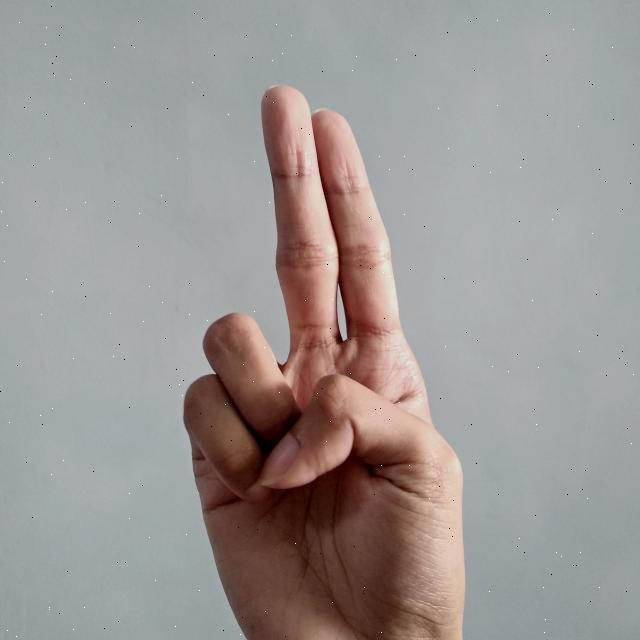U: (183, 74, 470, 640)
